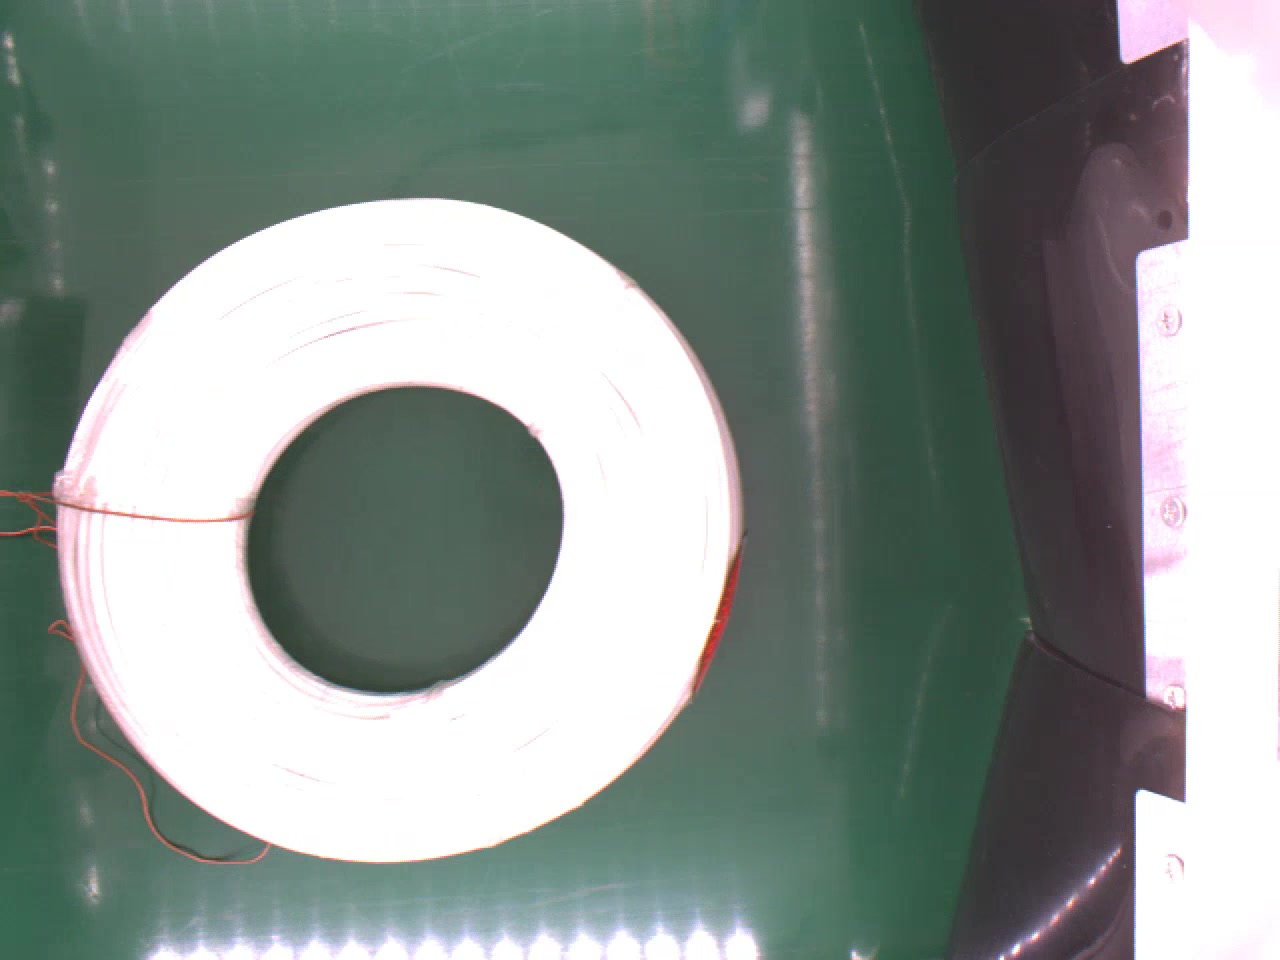white: (56, 193, 734, 864)
